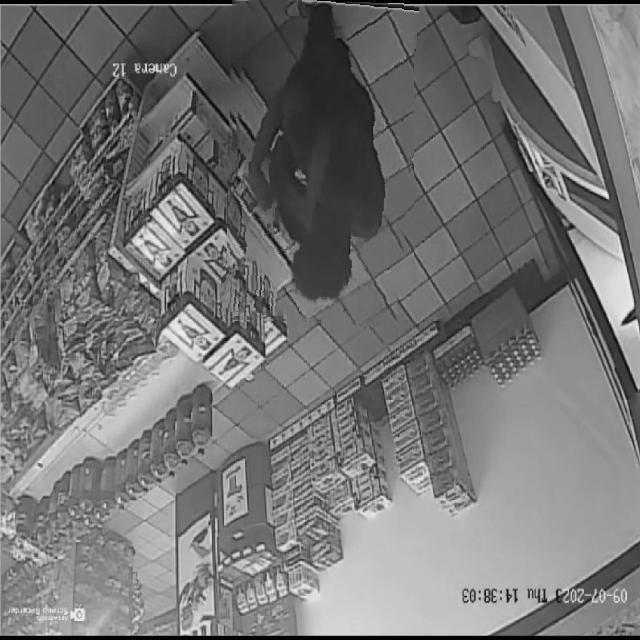Normal: (225, 0, 414, 325)
